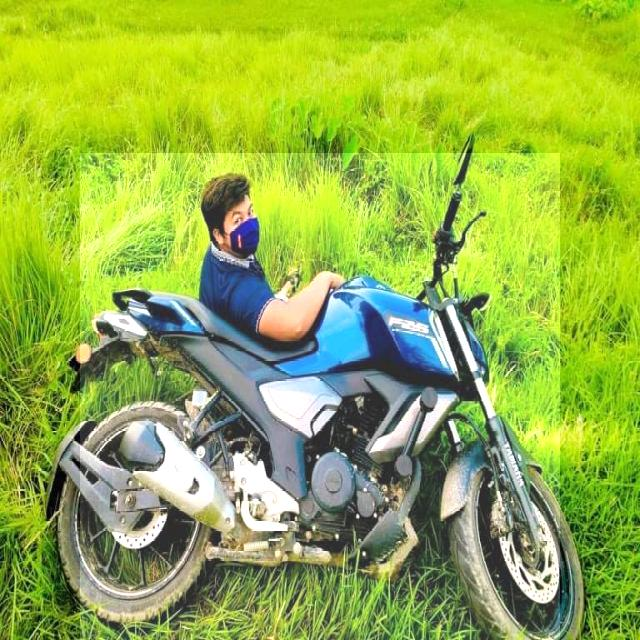Bike: (80, 153, 560, 640)
